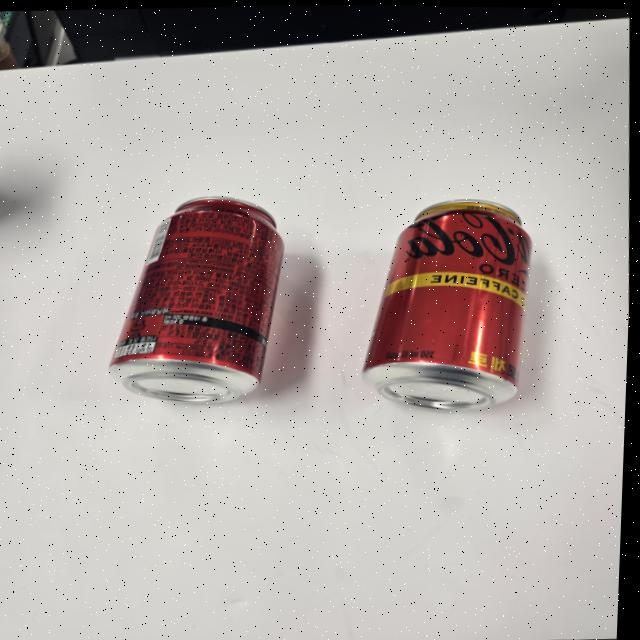can_coke_decaf: (360, 197, 535, 407)
can_coke_zero: (112, 196, 282, 407)
